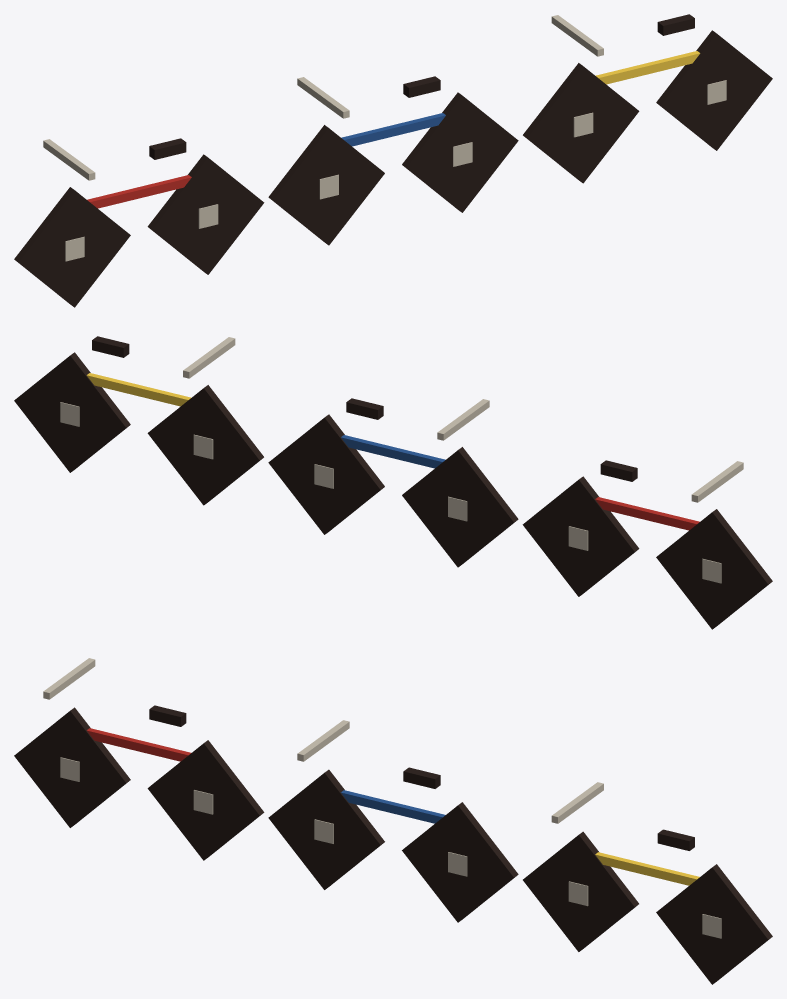
File: bike_display.glb
3 views of the same model, one above another, from view 1: azimuth 30°, elevation 25°; view 2: azimuth 150°, elevation 25°; view 3: azimuth 330°, elevation 25° (orthographic).
Visible parts, largest first — view 1: Box1, Box9, Box17, Box19, Box3, Box11, Box21, Box5, Box13, Box8, Box16, Box24 (+3 smaller); view 2: Box1, Box9, Box17, Box19, Box3, Box11, Box21, Box5, Box13, Box8, Box16, Box24 (+3 smaller); view 3: Box19, Box3, Box11, Box1, Box9, Box17, Box21, Box5, Box13, Box16, Box24, Box8 (+3 smaller).
Part boxes in pixels (x1=…): Box1: x1=14, y1=187, x2=130, y2=307; Box9: x1=268, y1=125, x2=384, y2=245; Box17: x1=523, y1=63, x2=639, y2=183; Box19: x1=656, y1=30, x2=772, y2=150; Box3: x1=147, y1=154, x2=264, y2=274; Box11: x1=402, y1=92, x2=518, y2=212; Box21: x1=595, y1=51, x2=700, y2=84; Box5: x1=87, y1=175, x2=191, y2=208; Box13: x1=341, y1=113, x2=445, y2=146; Box8: x1=43, y1=139, x2=95, y2=180; Box16: x1=297, y1=77, x2=349, y2=118; Box24: x1=551, y1=15, x2=603, y2=56; Box1: x1=656, y1=509, x2=772, y2=629; Box9: x1=402, y1=447, x2=518, y2=567; Box17: x1=147, y1=385, x2=263, y2=505; Box19: x1=14, y1=352, x2=130, y2=472; Box3: x1=522, y1=476, x2=639, y2=596; Box11: x1=268, y1=414, x2=384, y2=534; Box21: x1=86, y1=373, x2=191, y2=406; Box5: x1=595, y1=497, x2=699, y2=530; Box13: x1=341, y1=435, x2=445, y2=468; Box8: x1=691, y1=461, x2=743, y2=502; Box16: x1=437, y1=399, x2=489, y2=440; Box24: x1=183, y1=337, x2=235, y2=378; Box19: x1=656, y1=864, x2=772, y2=984; Box3: x1=147, y1=740, x2=264, y2=860; Box11: x1=402, y1=802, x2=518, y2=922; Box1: x1=14, y1=707, x2=130, y2=827; Box9: x1=268, y1=769, x2=384, y2=889; Box17: x1=523, y1=831, x2=638, y2=951; Box21: x1=595, y1=852, x2=699, y2=885; Box5: x1=86, y1=728, x2=190, y2=761; Box13: x1=341, y1=790, x2=445, y2=823; Box16: x1=297, y1=720, x2=349, y2=761; Box24: x1=551, y1=782, x2=603, y2=823; Box8: x1=43, y1=658, x2=95, y2=699.
Size of the model in its own units: 4.75 by 0.9036 by 0.5.
